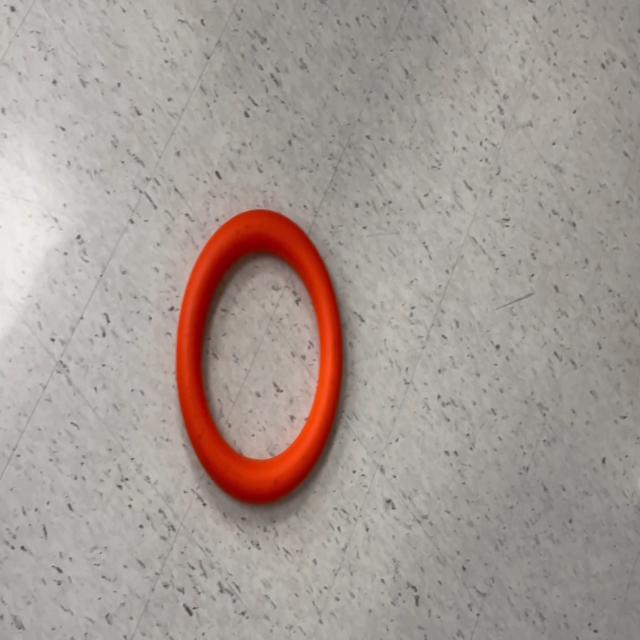note: (174, 208, 343, 514)
